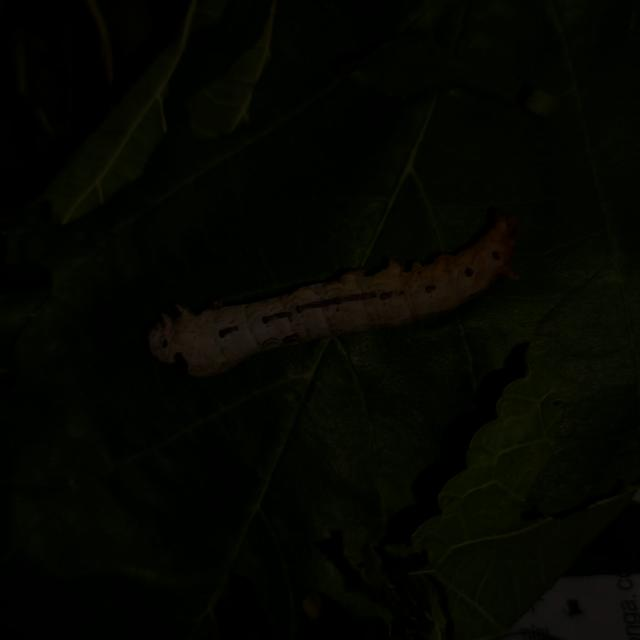Grasserie: (136, 201, 537, 389)
